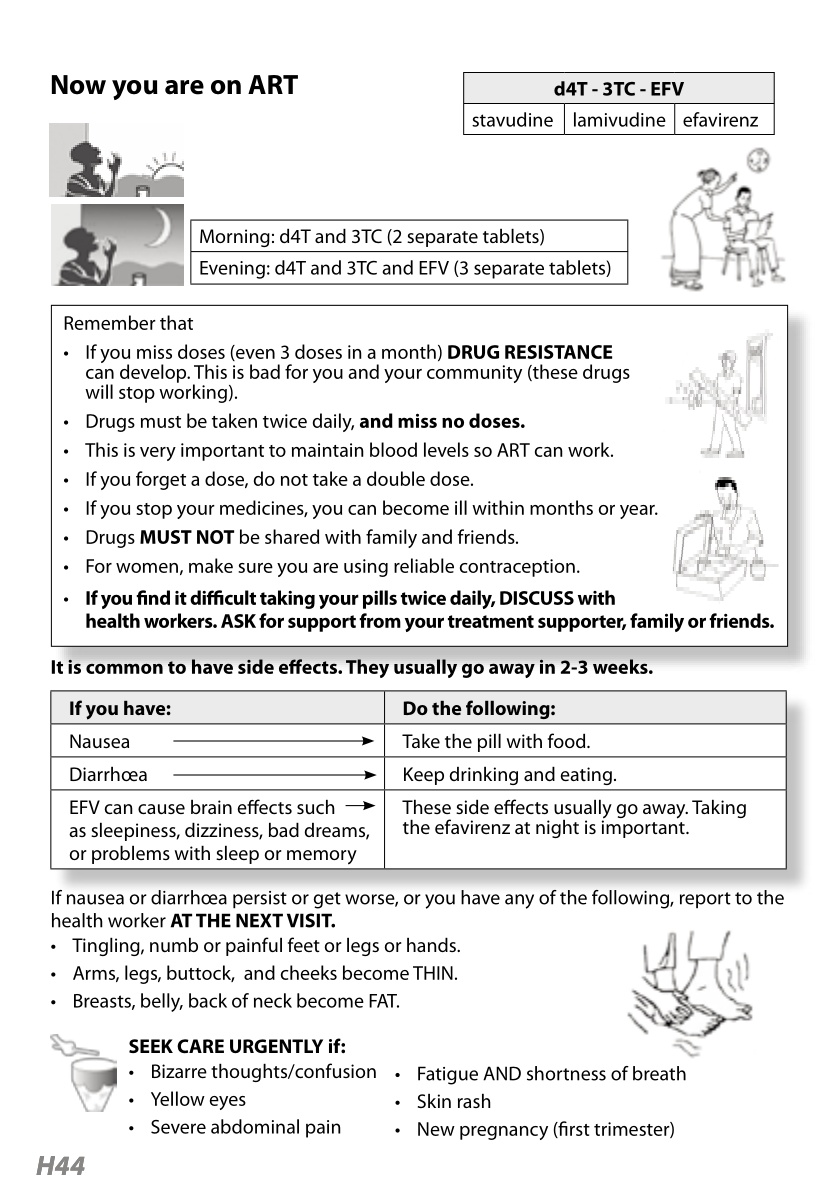full_lined: (49, 688, 787, 870), (190, 218, 629, 285)
merged_cells: (463, 71, 775, 135)
